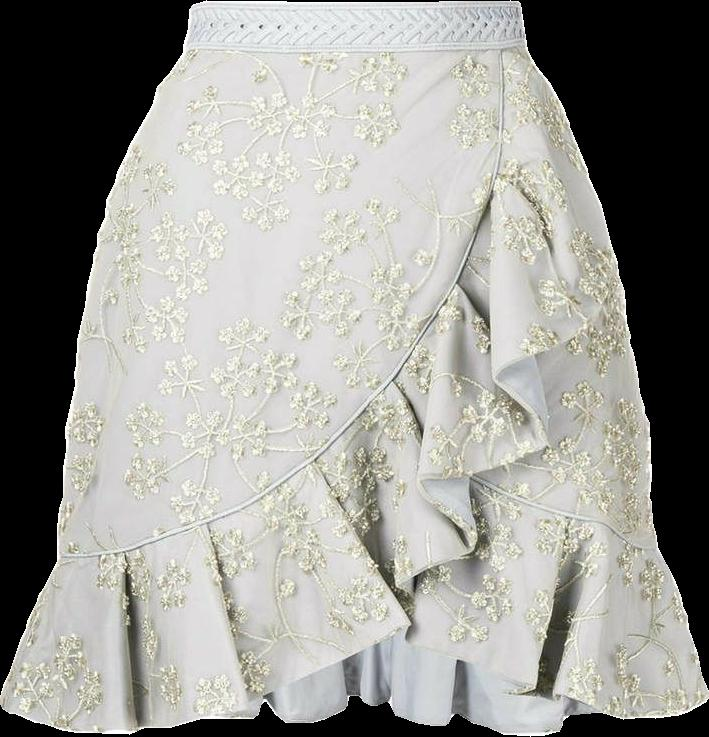Hemline: (0, 264, 623, 736), (398, 635, 708, 716)
Waistline: (57, 53, 508, 567), (179, 33, 530, 57), (187, 0, 522, 13)
